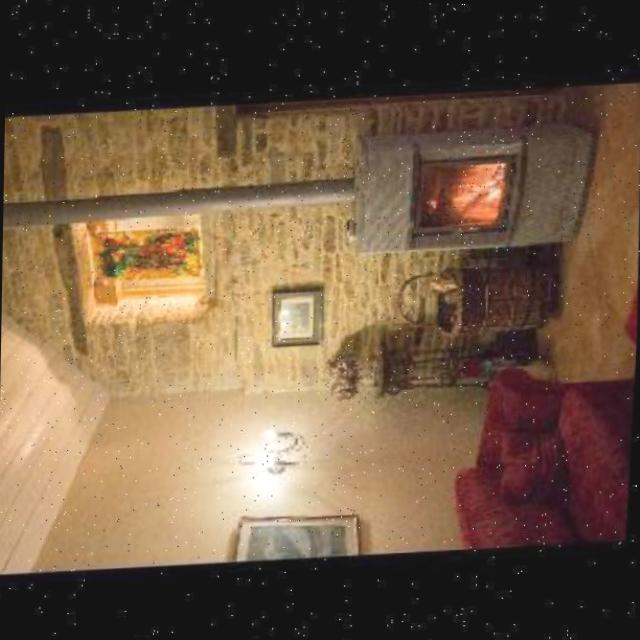fire: (413, 148, 508, 230)
